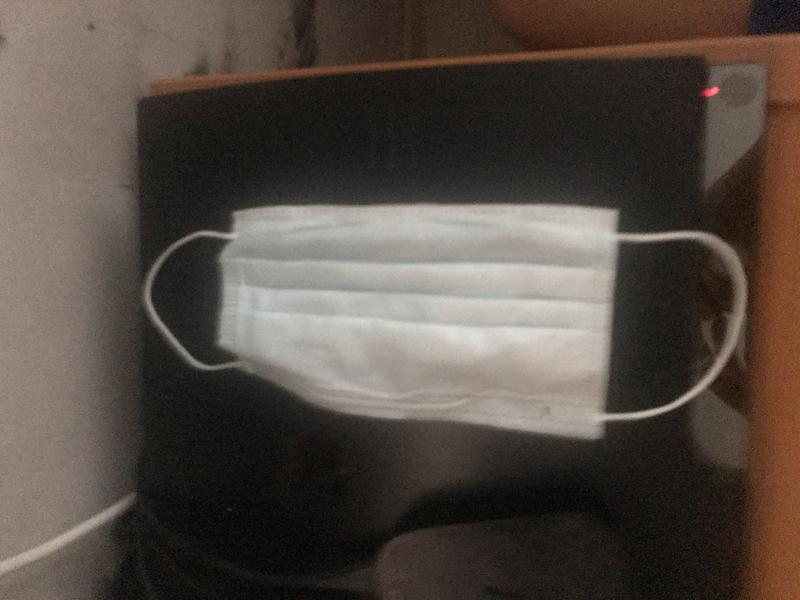medical_mask: (142, 204, 746, 440)
